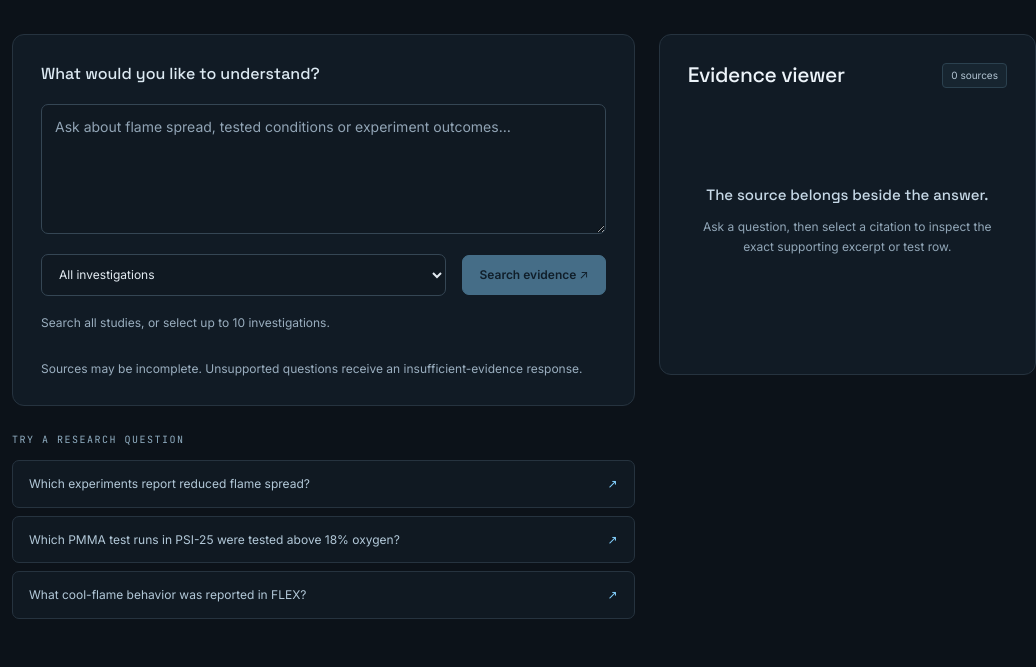
Test case: stops a request and isolates a new request from late events
The width and height of the screenshot is (1036, 667).
Later steps or results of the test are not shown.
Replace the text in the text box labelled "What would you like to understand?" with "flame spread" at (323, 169), box [41,104,606,234]
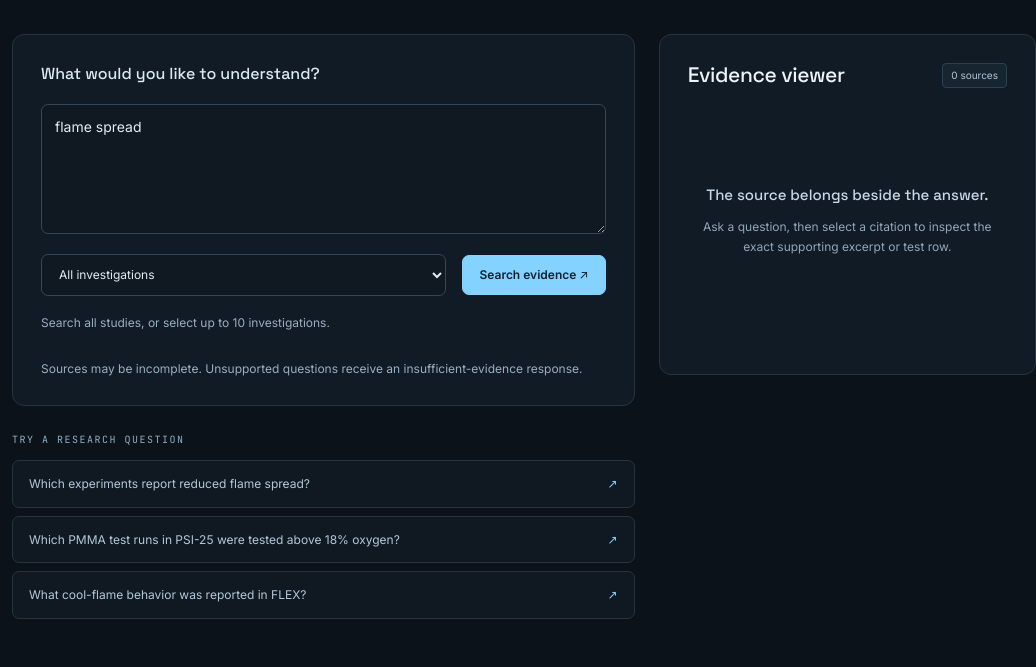
Click the button "Search evidence ↗" at (534, 275), box [462,255,606,295]
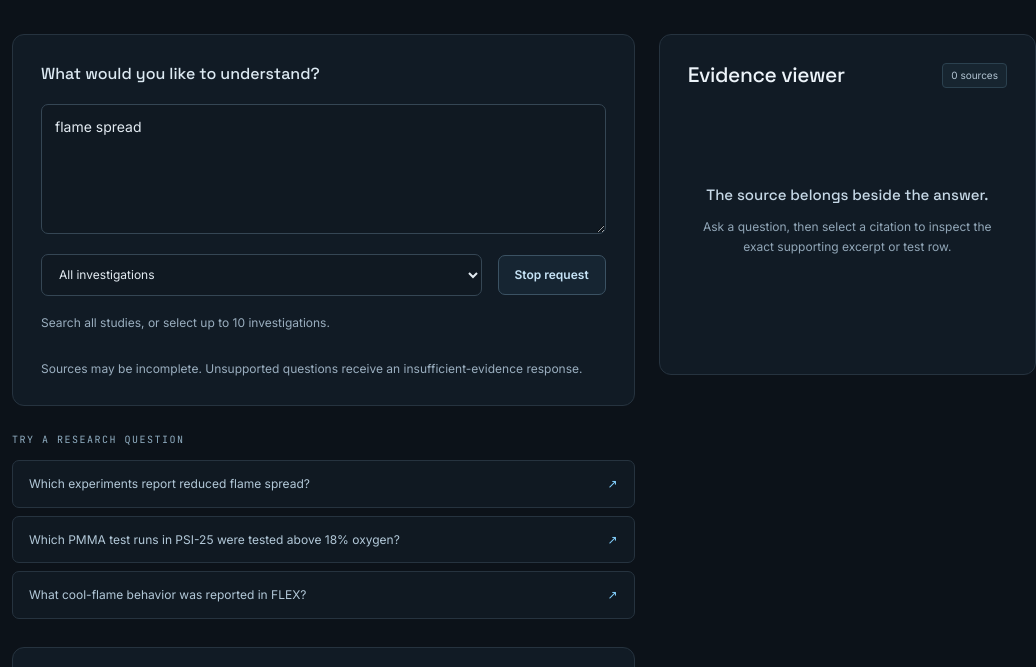
Click the button "Stop request" at (552, 275), box [498,255,606,295]
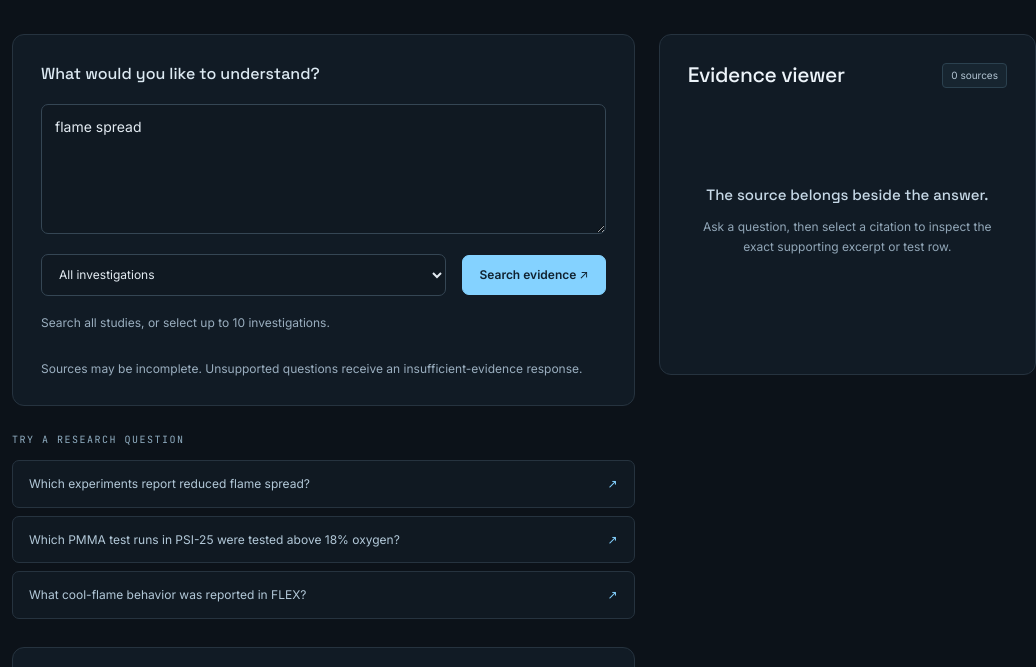
Click the button "Search evidence ↗" at (534, 275), box [462,255,606,295]
(page scrolled)
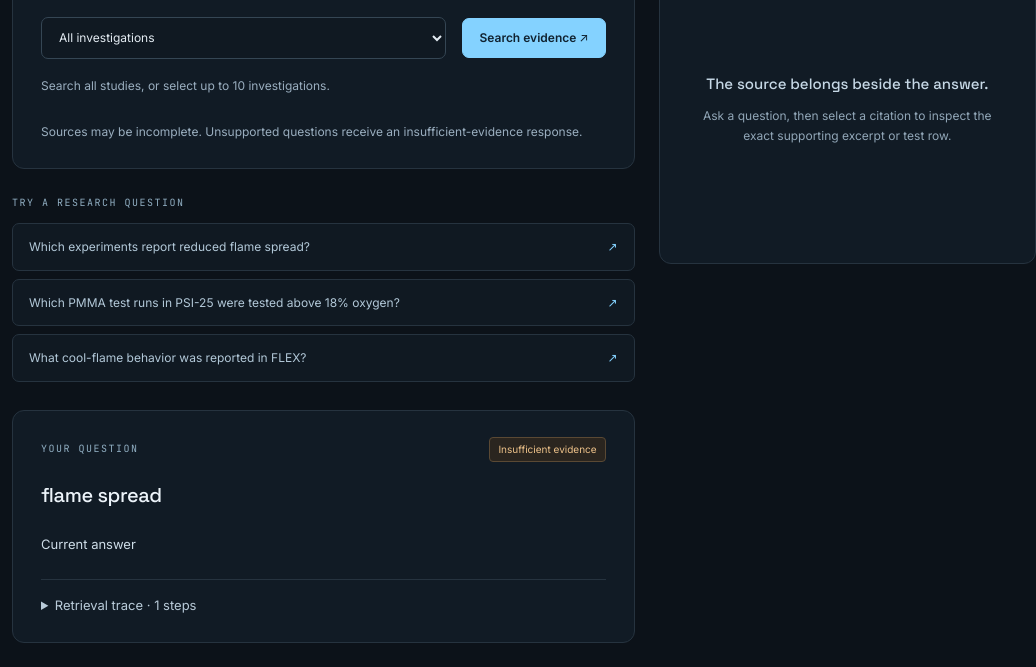
Expected: the button "Stop request" is not shown
Now the text "Current answer" is shown, box [41,536,136,552]
